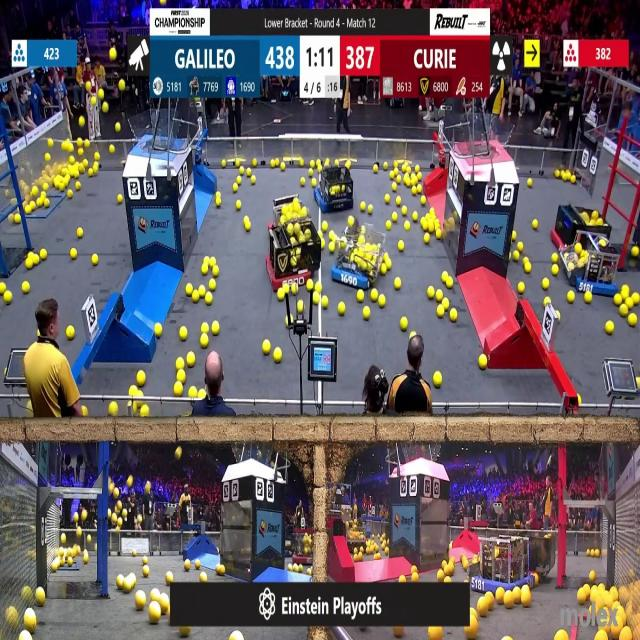ball_airborne: (60, 140, 73, 150), (175, 448, 182, 461), (109, 48, 116, 60), (102, 102, 109, 113), (118, 79, 124, 91), (116, 518, 123, 528), (78, 115, 84, 126), (81, 511, 87, 522), (128, 477, 134, 488), (99, 90, 105, 100), (87, 81, 93, 91), (46, 139, 52, 149), (137, 516, 143, 525), (78, 139, 84, 148), (76, 529, 82, 537), (111, 515, 116, 524), (74, 514, 79, 523), (69, 143, 74, 152), (92, 98, 98, 105), (116, 121, 120, 131), (120, 502, 124, 512), (114, 488, 118, 498), (78, 148, 83, 156), (95, 152, 100, 160), (121, 511, 126, 518), (84, 140, 89, 147), (90, 535, 94, 542), (110, 145, 114, 152)
ball_ground: (26, 612, 38, 634), (149, 603, 160, 623), (136, 592, 146, 610), (522, 588, 531, 607), (429, 626, 441, 640), (36, 589, 45, 607), (576, 589, 586, 605), (503, 593, 512, 609), (125, 580, 135, 594), (137, 372, 146, 387), (433, 373, 441, 388), (180, 626, 190, 638), (186, 353, 195, 366), (394, 626, 403, 639), (480, 354, 488, 368), (264, 341, 272, 355), (67, 325, 75, 339), (162, 598, 170, 612), (362, 307, 370, 320), (605, 321, 613, 334), (109, 404, 117, 417), (140, 407, 149, 418), (400, 317, 407, 331), (118, 576, 125, 590), (450, 310, 458, 322), (154, 324, 162, 336), (202, 336, 210, 348), (177, 371, 185, 383), (4, 292, 12, 304), (177, 357, 185, 369), (356, 290, 364, 302), (628, 314, 636, 326), (622, 285, 630, 297), (275, 349, 282, 362), (175, 383, 182, 396), (212, 321, 219, 334), (180, 326, 187, 339), (321, 295, 328, 308), (589, 570, 596, 583), (434, 289, 442, 300), (438, 308, 446, 319), (130, 385, 138, 396), (202, 322, 210, 333), (621, 306, 629, 317), (394, 278, 401, 290), (567, 290, 574, 302), (339, 304, 346, 316), (379, 294, 386, 306), (518, 282, 525, 294), (70, 248, 77, 260), (369, 289, 376, 301), (167, 571, 174, 583), (23, 282, 30, 294), (205, 292, 212, 304), (185, 283, 192, 295), (448, 563, 455, 575), (202, 266, 210, 276), (217, 564, 225, 574), (556, 632, 566, 640), (188, 387, 196, 397), (380, 266, 388, 276), (425, 221, 433, 231), (435, 570, 443, 580), (626, 296, 634, 306), (428, 286, 434, 299), (93, 253, 100, 264), (209, 280, 216, 291), (149, 590, 156, 601), (296, 302, 302, 314), (308, 280, 314, 292), (212, 267, 218, 279), (634, 292, 640, 304), (586, 292, 593, 302), (541, 279, 548, 289), (447, 279, 454, 289), (524, 264, 531, 274), (191, 292, 198, 302), (27, 260, 34, 270), (348, 216, 355, 226), (514, 251, 521, 261), (199, 286, 206, 296), (76, 229, 83, 239), (562, 172, 569, 182), (443, 301, 450, 311), (40, 249, 46, 260), (184, 560, 190, 571), (424, 234, 430, 245), (33, 253, 39, 264), (315, 283, 322, 292), (199, 389, 206, 398), (290, 284, 296, 294), (202, 572, 208, 582), (194, 560, 200, 570), (553, 266, 559, 276), (397, 242, 403, 252), (313, 293, 319, 303), (143, 566, 149, 576), (532, 219, 538, 229), (81, 408, 87, 418), (403, 220, 409, 230), (119, 196, 125, 206), (245, 220, 251, 230), (366, 205, 372, 215), (278, 290, 284, 300), (616, 294, 622, 304), (386, 262, 392, 272), (403, 175, 409, 185), (412, 175, 418, 185), (433, 220, 439, 230), (633, 247, 639, 257), (245, 169, 252, 177), (388, 172, 395, 180), (328, 243, 333, 254), (413, 572, 419, 581), (386, 220, 392, 229), (322, 221, 328, 230), (68, 189, 74, 198), (210, 256, 216, 265), (43, 200, 49, 209), (13, 214, 19, 223), (445, 573, 451, 582), (328, 233, 334, 242), (413, 212, 419, 221), (570, 175, 576, 184), (284, 317, 290, 326), (42, 183, 48, 192), (237, 201, 242, 211), (385, 192, 390, 202), (0, 283, 5, 293), (443, 272, 448, 282), (83, 554, 88, 564), (435, 232, 441, 240), (398, 574, 404, 582), (250, 176, 256, 184), (204, 256, 210, 264), (543, 296, 549, 304), (237, 176, 243, 184), (556, 170, 562, 178), (280, 164, 286, 172), (298, 161, 304, 169), (26, 206, 32, 214), (236, 160, 242, 168), (596, 634, 604, 640), (429, 209, 435, 217), (18, 634, 26, 640), (292, 565, 298, 573), (316, 162, 322, 170), (392, 213, 397, 222), (299, 177, 304, 186), (360, 203, 365, 212), (401, 207, 406, 216), (516, 240, 521, 249), (372, 164, 377, 173), (395, 176, 401, 183), (524, 256, 530, 263), (346, 163, 352, 170), (553, 254, 558, 262), (413, 186, 418, 194), (396, 198, 401, 206), (234, 183, 239, 191), (422, 197, 426, 207), (240, 168, 245, 176), (513, 232, 517, 242), (309, 169, 314, 177), (220, 161, 225, 169), (252, 160, 257, 168), (143, 557, 148, 565), (297, 564, 302, 572), (411, 329, 416, 337), (595, 550, 600, 558), (443, 560, 448, 568), (307, 160, 312, 168), (76, 182, 80, 191), (216, 199, 220, 208), (392, 182, 396, 191), (418, 173, 422, 182), (636, 378, 640, 387), (90, 170, 95, 177), (416, 166, 421, 173), (376, 554, 381, 561), (528, 179, 532, 187), (321, 240, 325, 248), (312, 179, 316, 187), (308, 567, 312, 575), (384, 164, 388, 172), (288, 564, 292, 572), (502, 636, 510, 640), (40, 189, 44, 197), (587, 550, 591, 557), (129, 400, 133, 406), (216, 191, 220, 197), (134, 553, 138, 559), (386, 546, 389, 553)
goal: (460, 119, 517, 158), (129, 117, 186, 151)
robot_blue: (559, 233, 621, 299), (473, 531, 533, 591), (331, 226, 384, 290), (314, 166, 352, 214), (347, 521, 371, 551)
robot_red: (266, 222, 319, 286), (290, 536, 311, 565)
